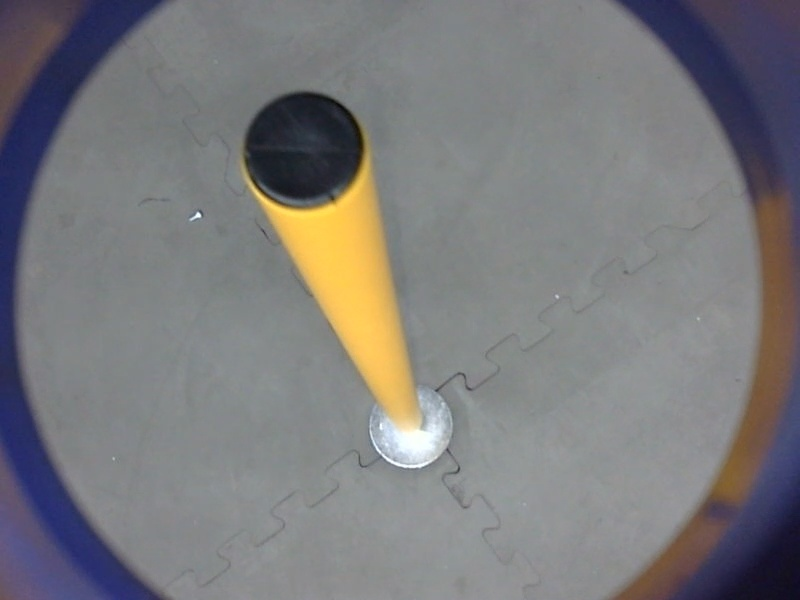tip: (233, 82, 374, 221)
